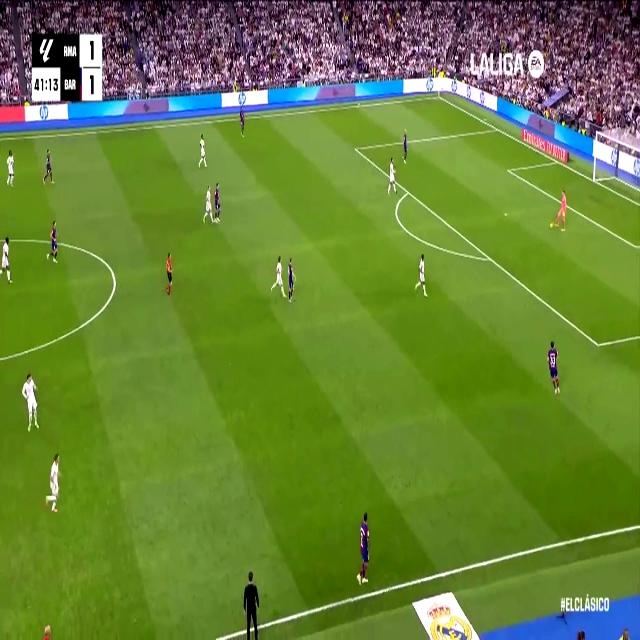bigarea_bottom_inner: (593, 332, 603, 356)
bigarea_top_inner: (352, 141, 359, 155)
bigarea_top_outter: (492, 121, 500, 134)
bottom_arc_area_intersection: (485, 250, 493, 266)
corner: (436, 92, 442, 100)
smallarea_top_inner: (506, 165, 511, 175)
top_arc_area_intersection: (405, 184, 411, 198)
